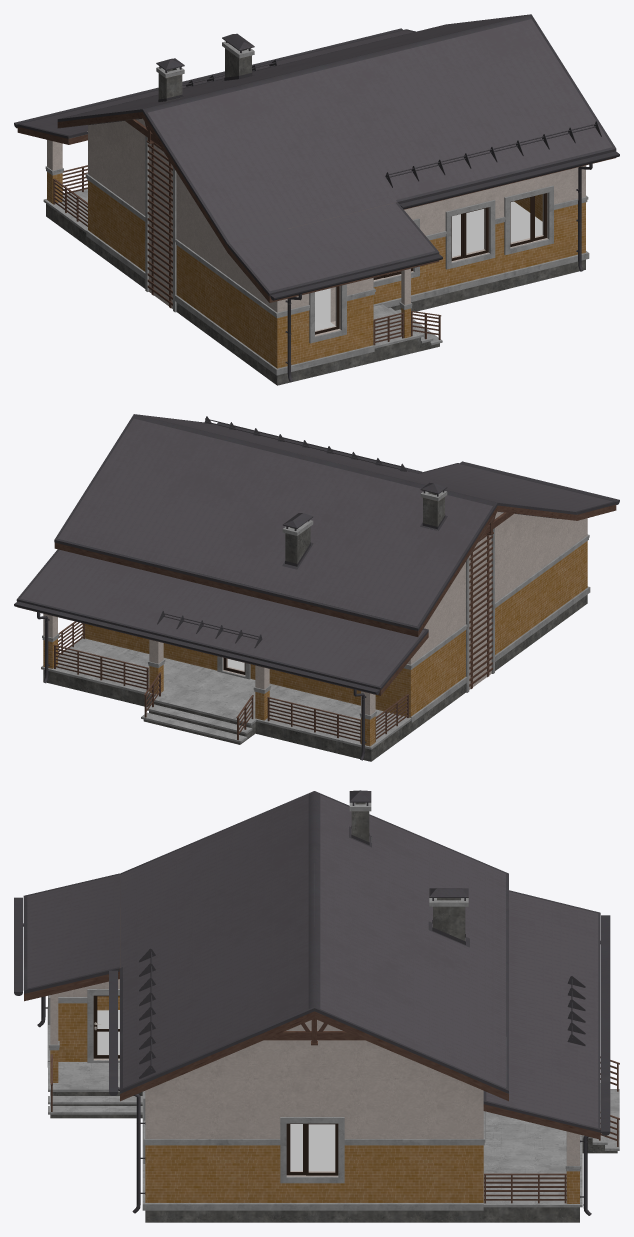
The model's file is Cottage_FREE.obj.
The picture shows the model from 3 angles, top to bottom: view 1: azimuth 30°, elevation 25°; view 2: azimuth 150°, elevation 25°; view 3: azimuth 270°, elevation 25°; orthographic projection. The views are drawn at different scales.
Parts seen in each view (by area): view 1: Cottage_Free, Plane.001; view 2: Cottage_Free; view 3: Cottage_Free, Plane.001.
Part boxes in pixels (x1,y1,x2,y2): Cottage_Free: (14,14,619,385); Plane.001: (315,201,542,330); Cottage_Free: (14,414,619,761); Cottage_Free: (14,790,619,1222); Plane.001: (97,1010,335,1171).
Bounding box in the file's own units: 12.44 × 6.75 × 14.65.
2 materials, 1 textured.
